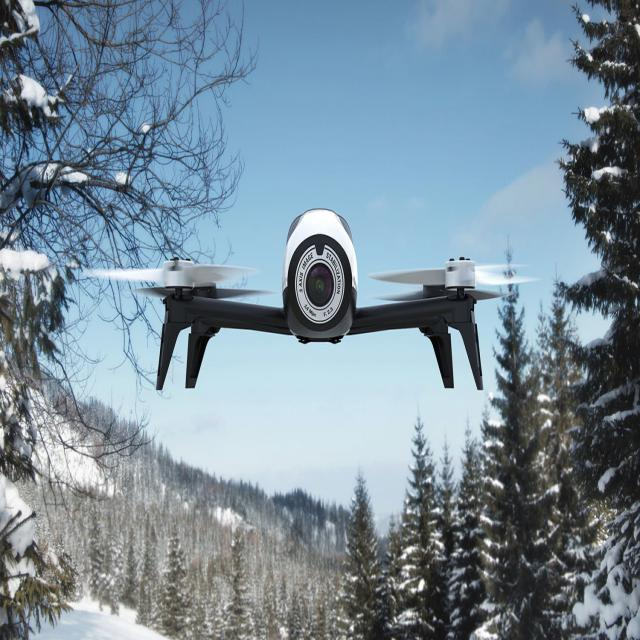drone: (110, 190, 539, 440)
